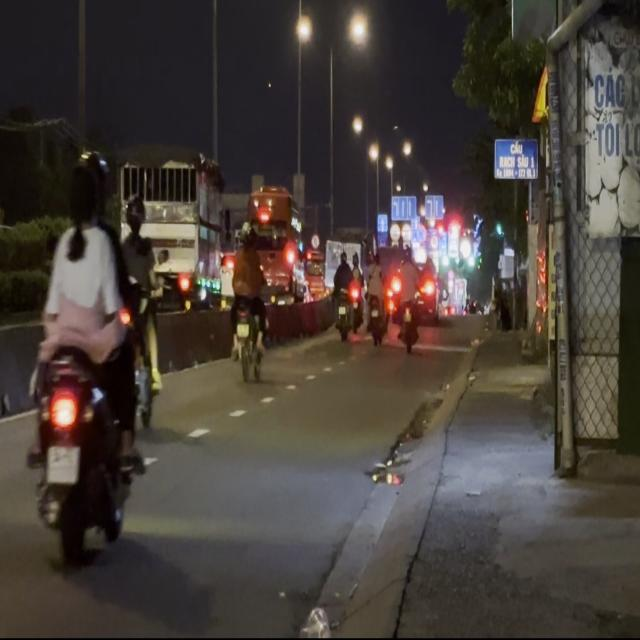helmet: (81, 151, 108, 215)
licenseplate: (22, 151, 154, 570)
motorcyclist: (65, 161, 98, 228)
nohelmet: (46, 445, 78, 482)
